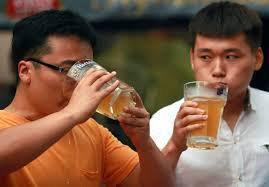Drunk: (195, 36, 251, 98)
